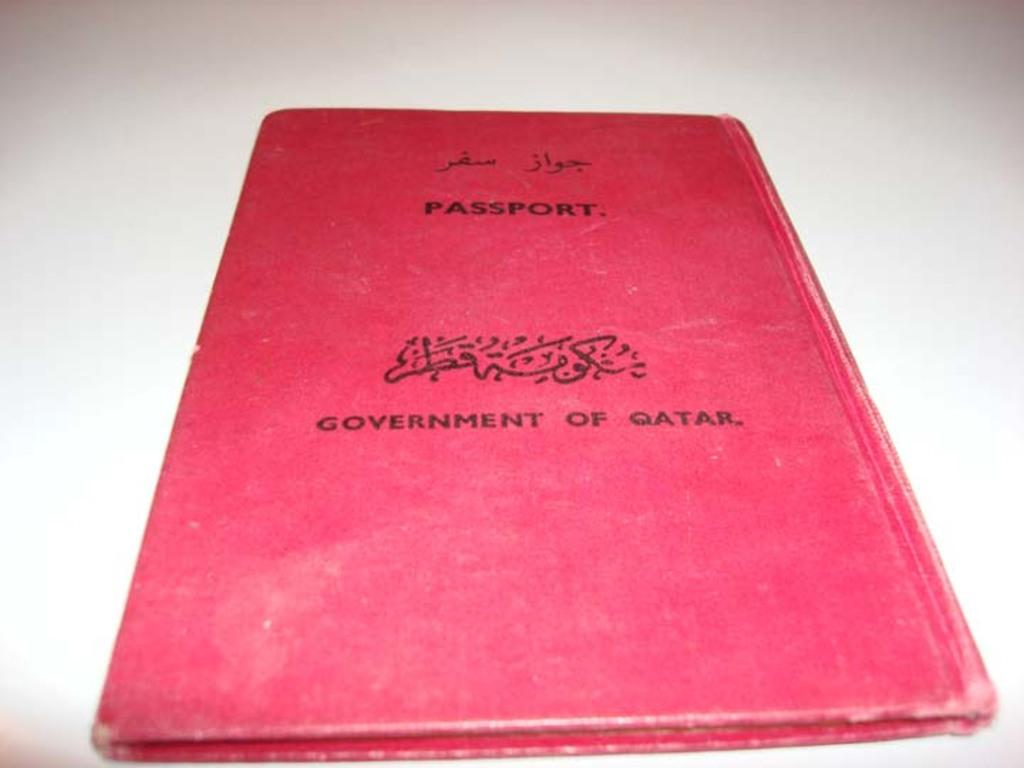book: (88, 108, 998, 761)
